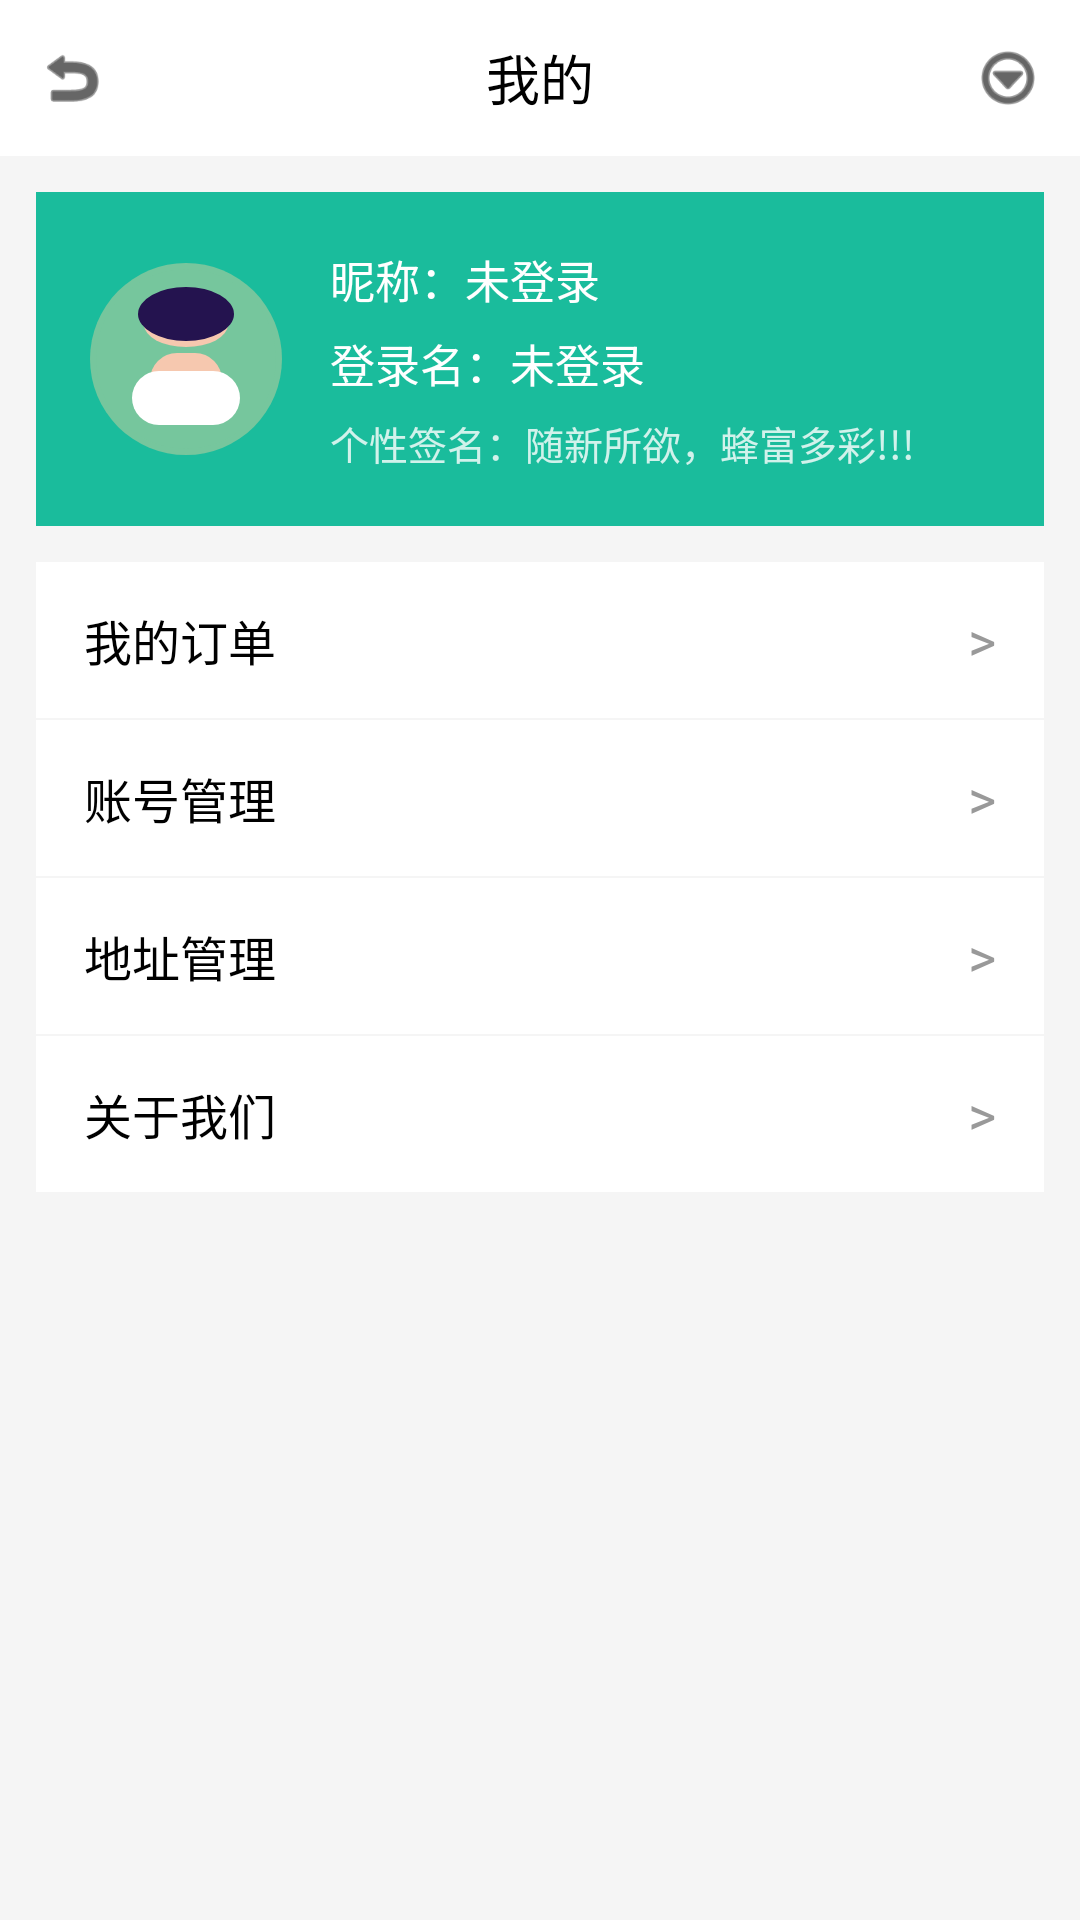

Icon click points for this 1080w x 1920h phone screenshot, format (x=x, y=y):
more: (x=1008, y=78)
revert: (x=73, y=78)
